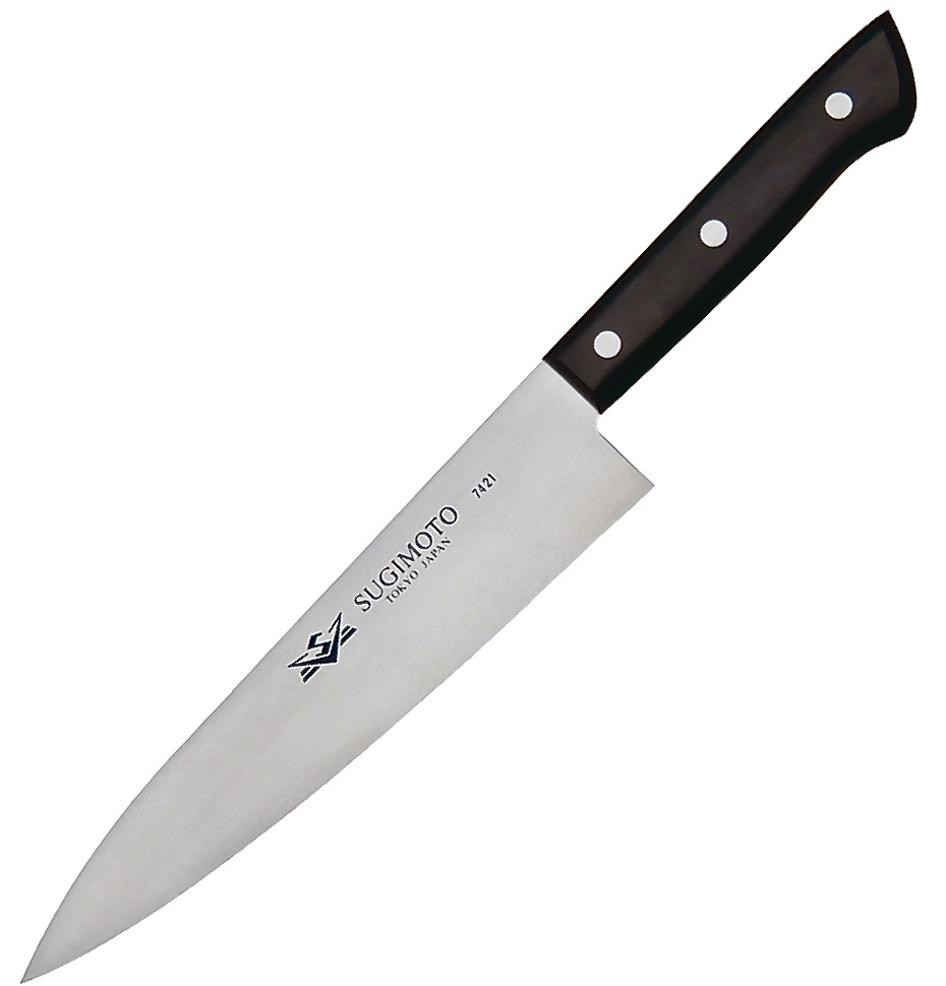knife: (21, 13, 919, 986)
